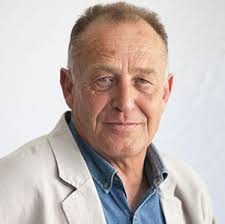s.white: (137, 89, 161, 128)
